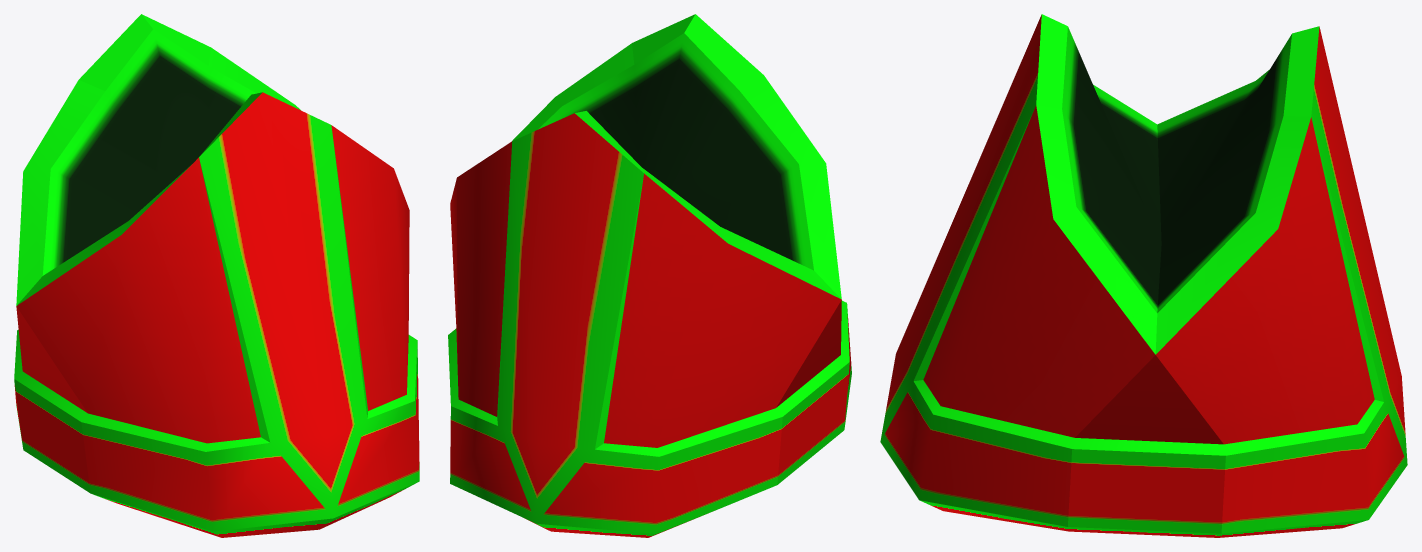
The model's file is BishopHat.fbx.
The picture shows the model from 3 angles, left to right: view 1: azimuth 30°, elevation 25°; view 2: azimuth 150°, elevation 25°; view 3: azimuth 270°, elevation 25°; orthographic projection. The views are drawn at different scales.
Visible parts, largest first — view 1: BishopHat; view 2: BishopHat; view 3: BishopHat.
Part boxes in pixels (x1,y1,x2,y2): BishopHat: [14, 14, 419, 537]; BishopHat: [448, 14, 851, 537]; BishopHat: [880, 14, 1407, 537].
Bounding box in the file's own units: 30.29 × 30.44 × 30.77.
